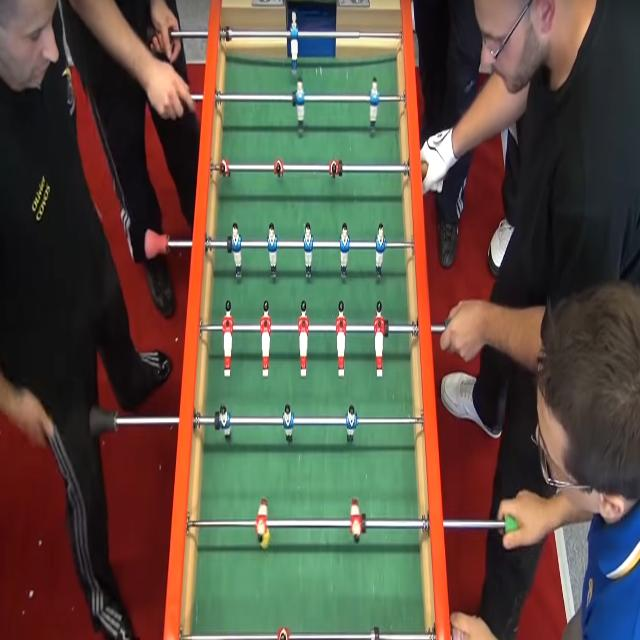ball: (258, 522, 276, 552)
